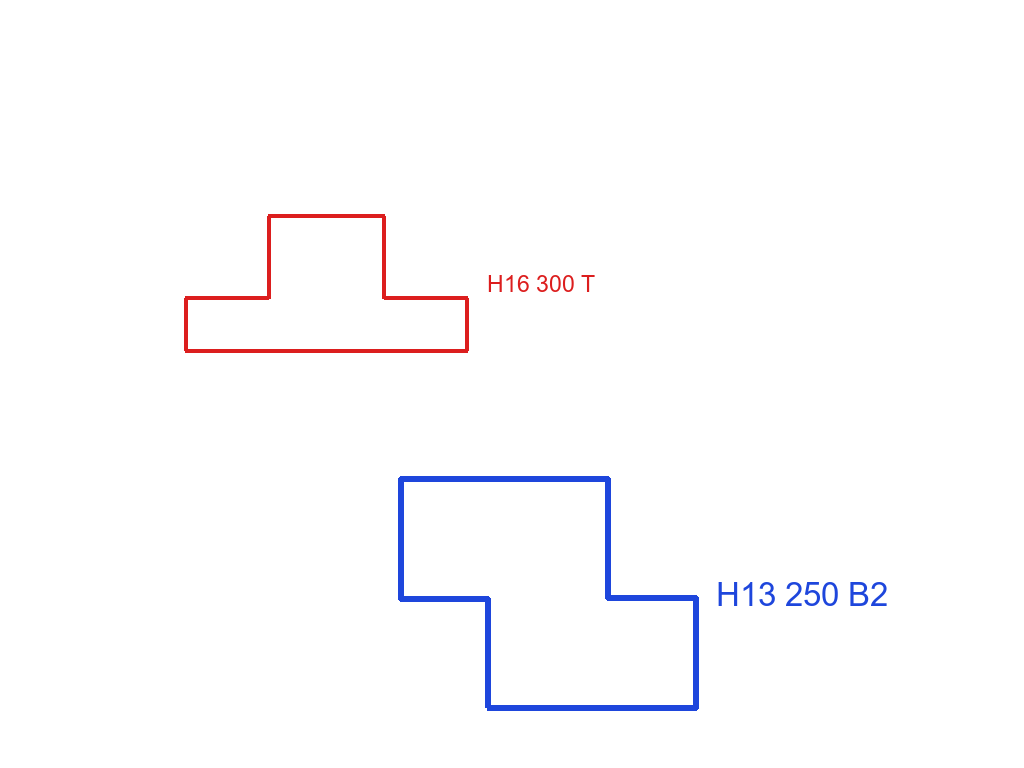shape: (395, 475, 701, 713), (181, 212, 471, 354)
text: (714, 580, 890, 608), (485, 273, 597, 294)
